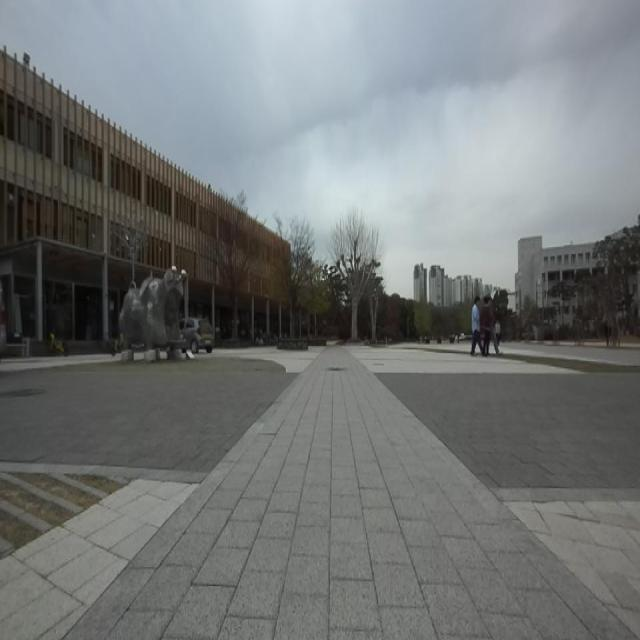sidewalk: (70, 349, 632, 639)
